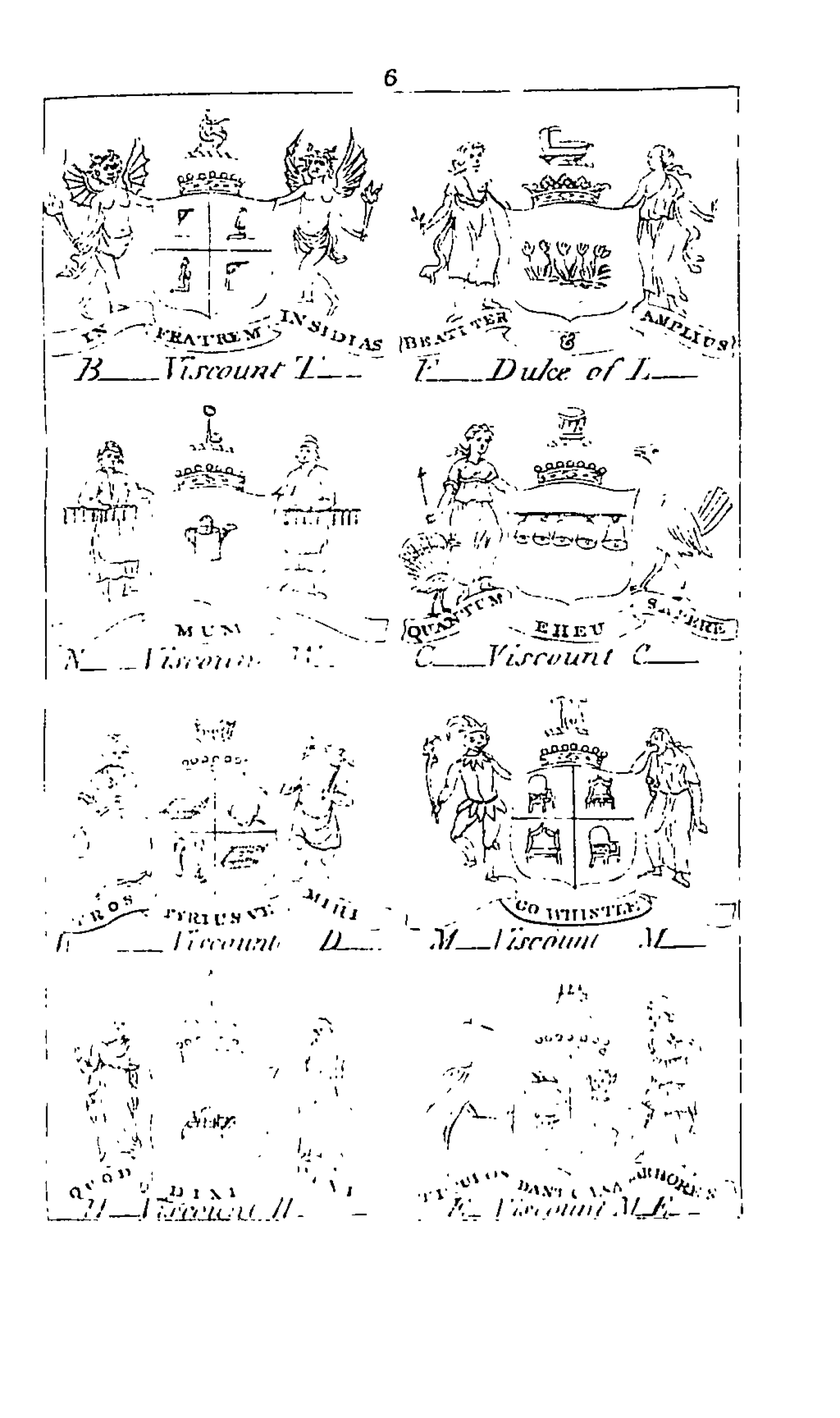coat_of_arms: (46, 93, 385, 398), (386, 93, 725, 394), (55, 409, 403, 690), (394, 678, 727, 961), (403, 395, 733, 672), (52, 694, 382, 967), (40, 970, 391, 1225), (403, 973, 736, 1234)
